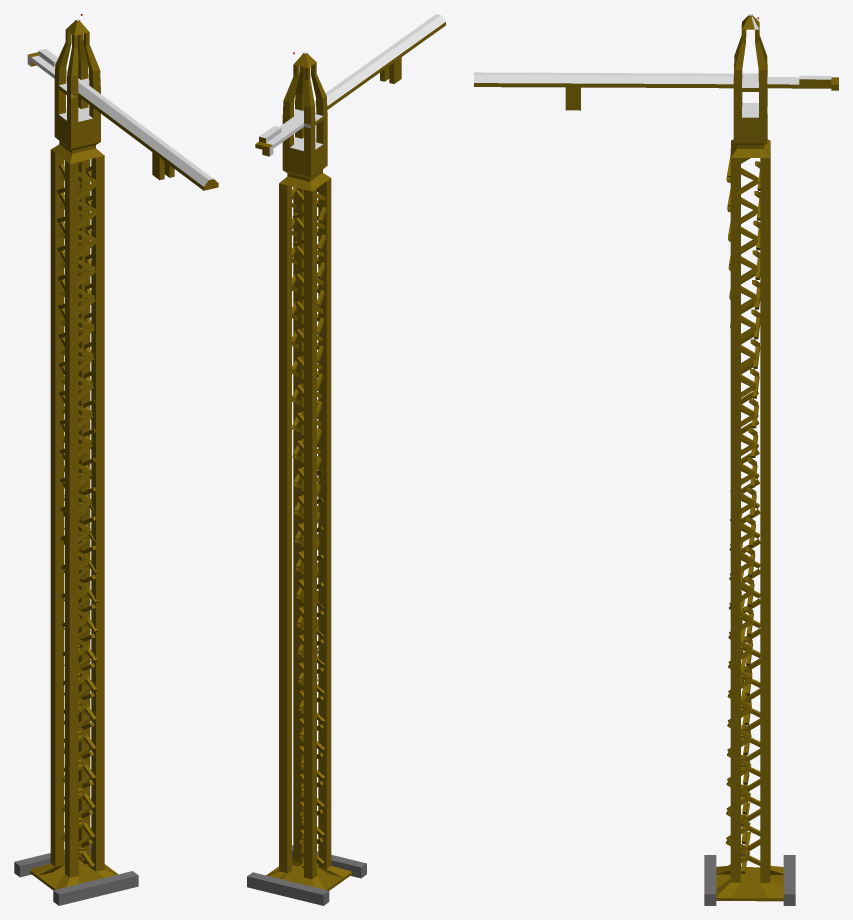
File: WesteriaConstructionSkyscraperCrane.fbx
The picture shows the model from 3 angles, left to right: view 1: azimuth 30°, elevation 25°; view 2: azimuth 150°, elevation 25°; view 3: azimuth 270°, elevation 25°; orthographic projection. The views are drawn at different scales.
Parts seen in each view (by area): view 1: WesteriaCrane_LOD0; view 2: WesteriaCrane_LOD0; view 3: WesteriaCrane_LOD0.
Part boxes in pixels (x1,y1,x2,y2): WesteriaCrane_LOD0: [14, 14, 218, 905]; WesteriaCrane_LOD0: [247, 14, 445, 905]; WesteriaCrane_LOD0: [474, 14, 838, 905].
Size of what is drawn, in the model's own units: 4756 by 49165 by 18621.
